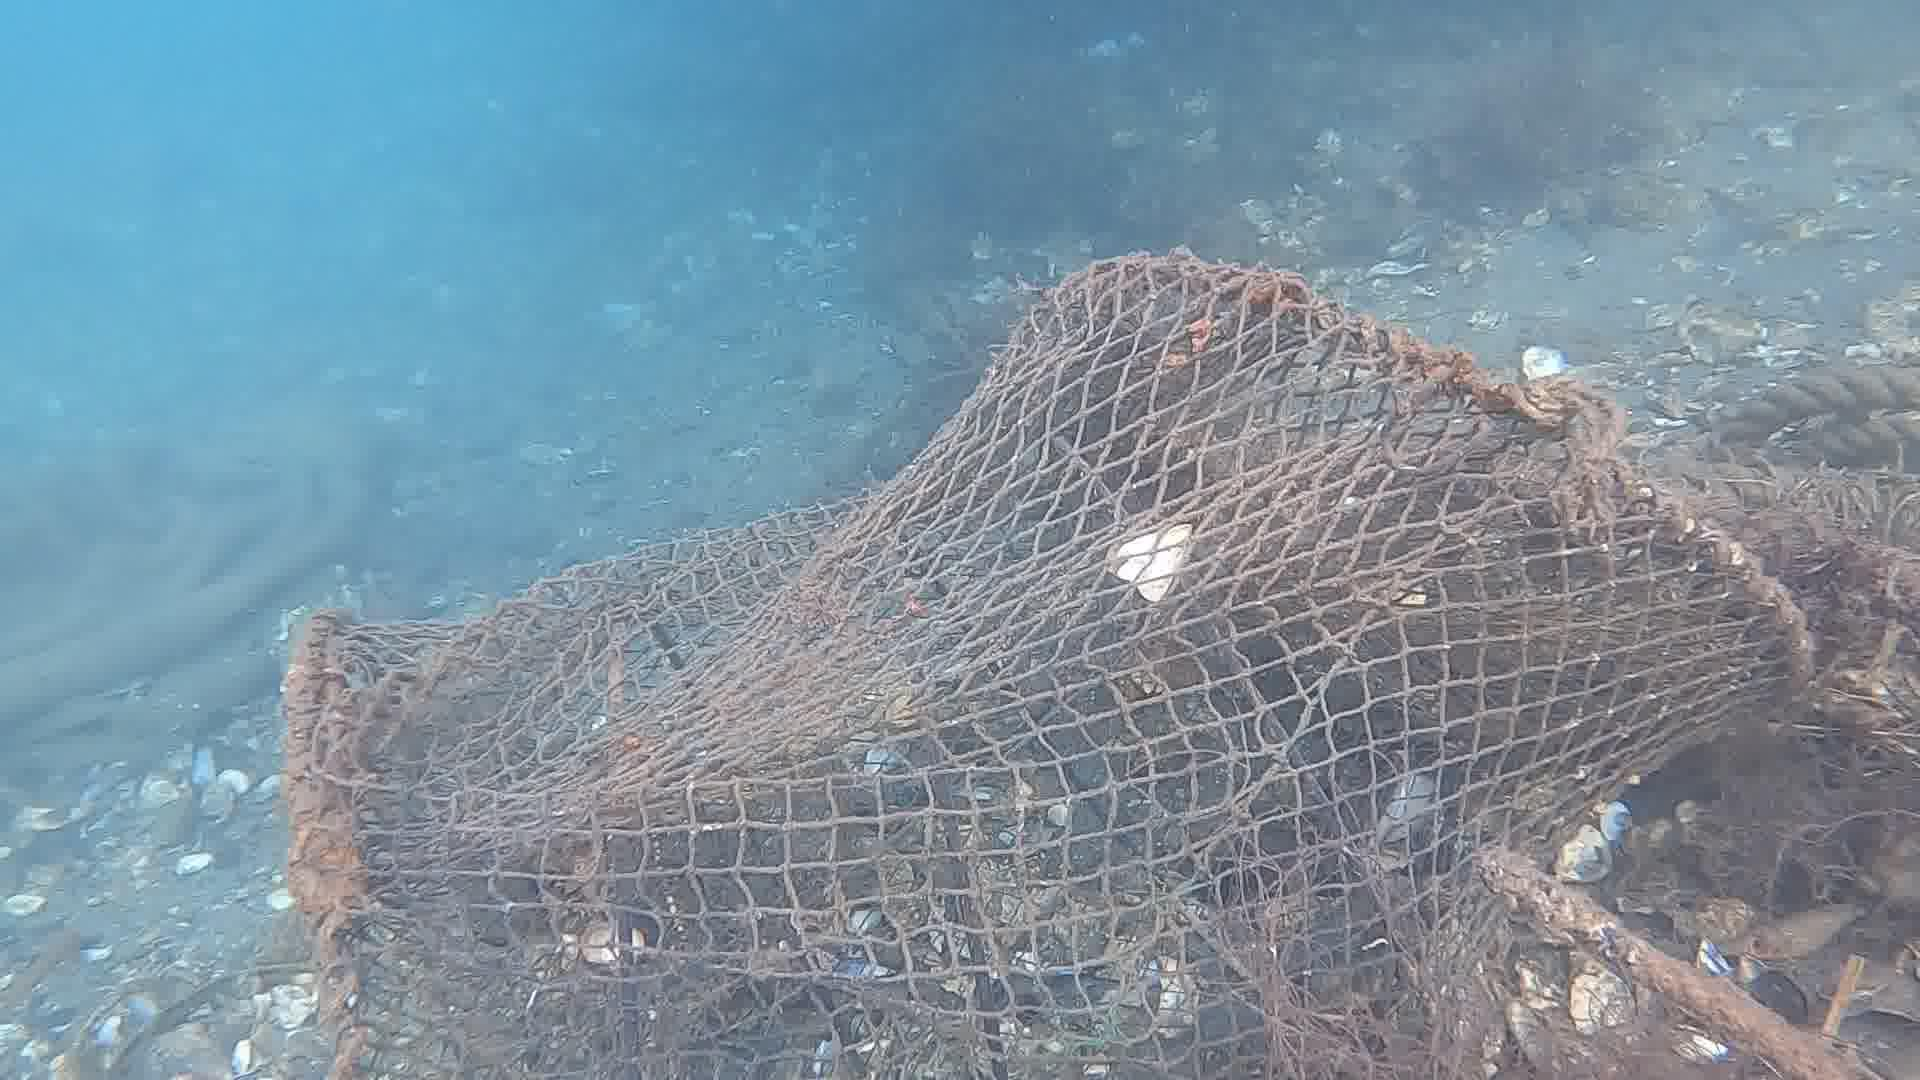spring fish trap: (272, 248, 1821, 1080)
